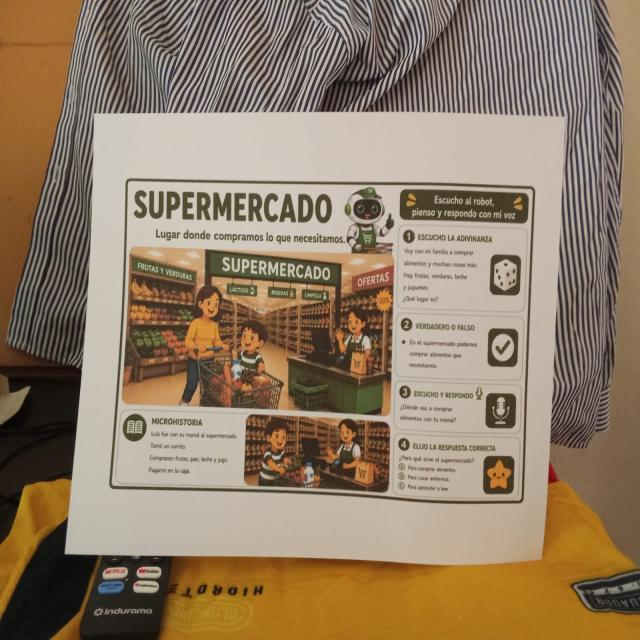supermercado: (105, 172, 539, 509)
